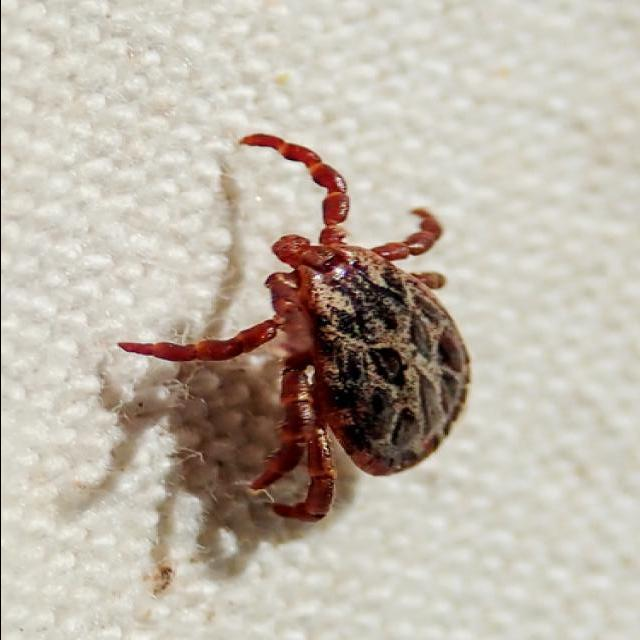Dermacentor Reticulatus-M: (121, 134, 469, 520)
